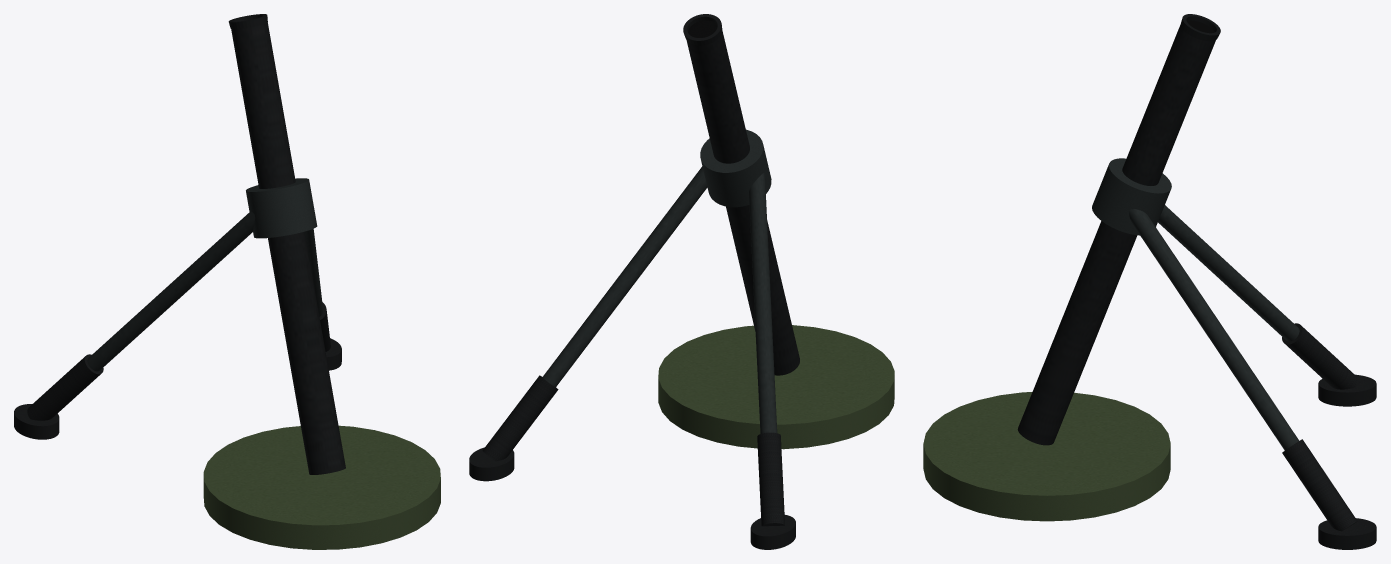
The picture shows the model from 3 angles, left to right: view 1: azimuth 30°, elevation 25°; view 2: azimuth 150°, elevation 25°; view 3: azimuth 270°, elevation 25°; orthographic projection. The views are drawn at different scales.
Parts seen in each view (by area): view 1: Hull_MVP olive paint, Hull_MVP exposed metal, Bipod lower sleeve, Bipod foot; view 2: Hull_MVP olive paint, Hull_MVP exposed metal, Bipod lower sleeve.001, Bipod lower sleeve, Bipod foot, Bipod foot.001, Recessed muzzle lip; view 3: Hull_MVP olive paint, Hull_MVP exposed metal, Bipod lower sleeve.001, Bipod lower sleeve, Bipod foot.001, Bipod foot, Recessed muzzle lip.
Boxes of the visible parts, box(x1,y1,x2,y2) form: Hull_MVP olive paint: box(203, 22, 440, 549); Hull_MVP exposed metal: box(87, 178, 323, 371); Bipod lower sleeve: box(27, 354, 103, 420); Bipod foot: box(14, 404, 59, 439); Hull_MVP olive paint: box(658, 31, 894, 449); Hull_MVP exposed metal: box(542, 129, 777, 433); Bipod lower sleeve.001: box(482, 375, 558, 461); Bipod lower sleeve: box(757, 432, 784, 526); Bipod foot: box(750, 515, 795, 549); Bipod foot.001: box(469, 447, 514, 481); Recessed muzzle lip: box(683, 14, 722, 45); Hull_MVP olive paint: box(923, 25, 1215, 521); Hull_MVP exposed metal: box(1092, 158, 1299, 450); Bipod lower sleeve.001: box(1282, 439, 1357, 531); Bipod lower sleeve: box(1282, 323, 1357, 389); Bipod foot.001: box(1318, 518, 1376, 549); Bipod foot: box(1318, 374, 1376, 406); Recessed muzzle lip: box(1180, 14, 1220, 41).
Bounding box in the file's own units: 1.3 × 1.69 × 1.54.
Materials: 4 (4 with a texture image).
